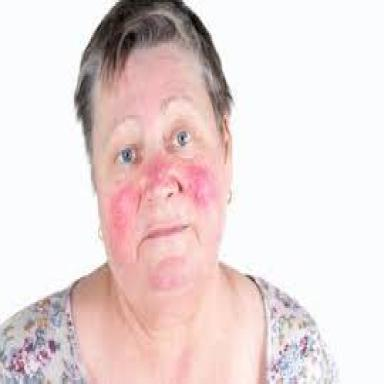burn: (104, 156, 218, 263), (149, 257, 185, 290)
